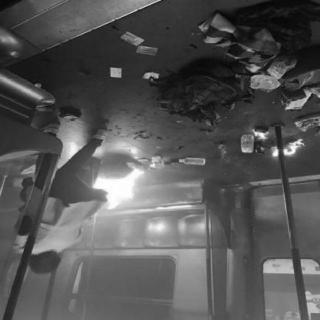Fire: (90, 167, 150, 211), (252, 131, 270, 145)
other: (148, 217, 176, 236), (60, 144, 79, 167)
